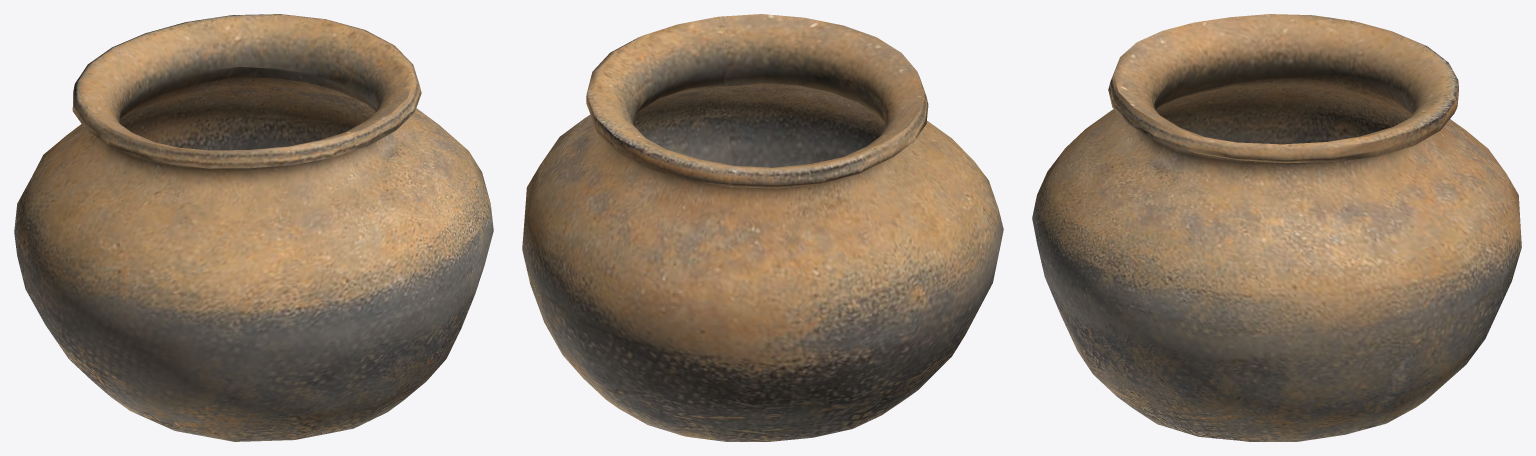
The model's file is antiquity2_23.fbx.
3 views of the same model, side by side, from view 1: azimuth 30°, elevation 25°; view 2: azimuth 150°, elevation 25°; view 3: azimuth 270°, elevation 25° (orthographic).
Visible parts, largest first — view 1: 0545; view 2: 0545; view 3: 0545.
Boxes of the visible parts, x1=… form: 0545: x1=14, y1=14, x2=493, y2=441; 0545: x1=522, y1=14, x2=1003, y2=441; 0545: x1=1032, y1=14, x2=1521, y2=441.
Bounding box in the file's own units: 38.24 × 27.07 × 38.74.
Materials: 1 (1 with a texture image).
